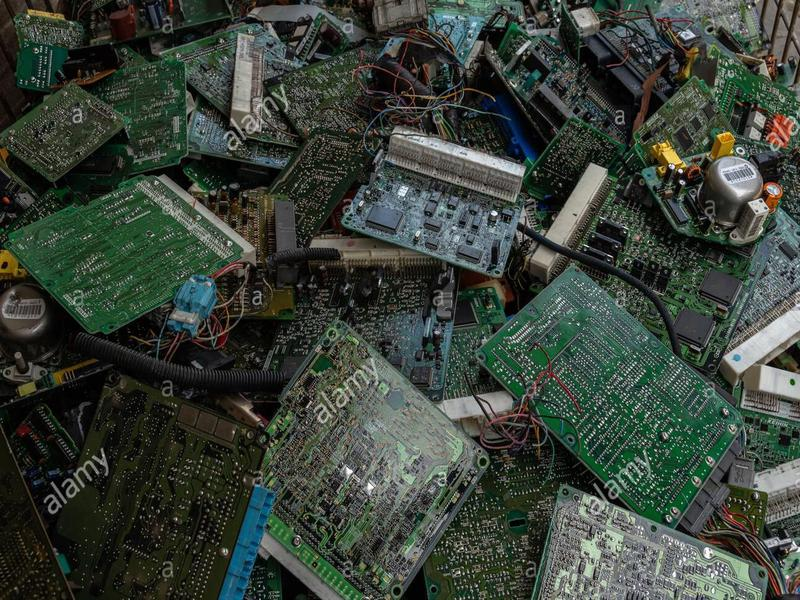circuit_board: (468, 261, 751, 531), (254, 316, 493, 600), (51, 362, 272, 600), (526, 158, 760, 375), (7, 175, 269, 341), (331, 120, 548, 287), (517, 475, 779, 600), (616, 74, 797, 254), (270, 39, 479, 144), (5, 83, 131, 187), (101, 63, 200, 176)
